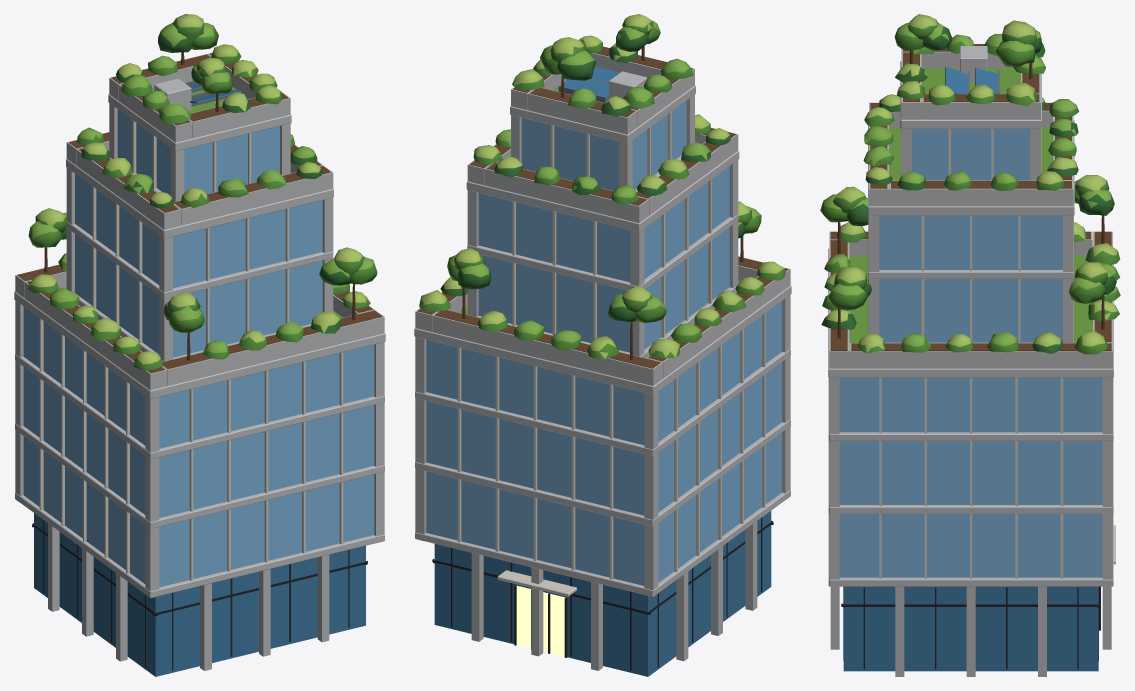
Rendered from tower_a.glb.
The picture shows the model from 3 angles, left to right: view 1: azimuth 30°, elevation 25°; view 2: azimuth 150°, elevation 25°; view 3: azimuth 270°, elevation 25°; orthographic projection. The views are drawn at different scales.
Parts seen in each view (by area): view 1: tower, garden; view 2: tower, garden; view 3: tower, garden.
Part boxes in pixels (bbox=[...]): tower: bbox=[14, 52, 385, 676]; garden: bbox=[27, 14, 377, 370]; tower: bbox=[414, 46, 791, 676]; garden: bbox=[419, 14, 785, 359]; tower: bbox=[828, 44, 1115, 676]; garden: bbox=[820, 14, 1120, 354].
Size of the model in its own units: 11.84 by 26.39 by 11.99.
